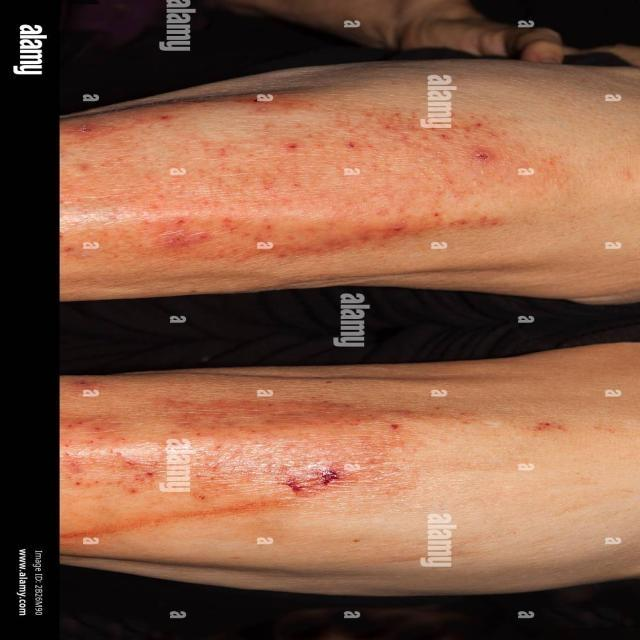Eczema: (58, 99, 546, 276), (41, 382, 415, 531)
